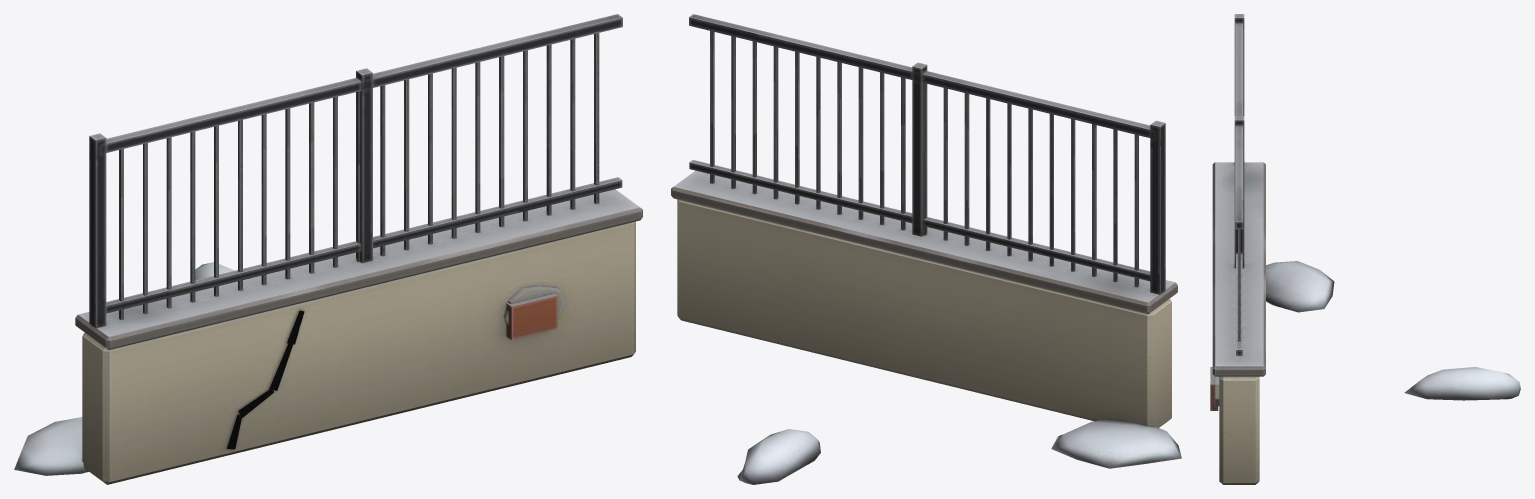
The model's file is bld_wall_garden.glb.
3 renders of one model, left to right at view 1: azimuth 30°, elevation 25°; view 2: azimuth 150°, elevation 25°; view 3: azimuth 270°, elevation 25°, orthographic. The views are drawn at different scales.
Parts seen in each view (by area): view 1: bld_wall_garden; view 2: bld_wall_garden; view 3: bld_wall_garden.
Part boxes in pixels (x1,y1,x2,y2): bld_wall_garden: [14, 14, 642, 484]; bld_wall_garden: [671, 14, 1181, 484]; bld_wall_garden: [1210, 14, 1520, 484].
Bounding box in the file's own units: 3.29 × 1.84 × 1.92.
1 material, 1 textured.
